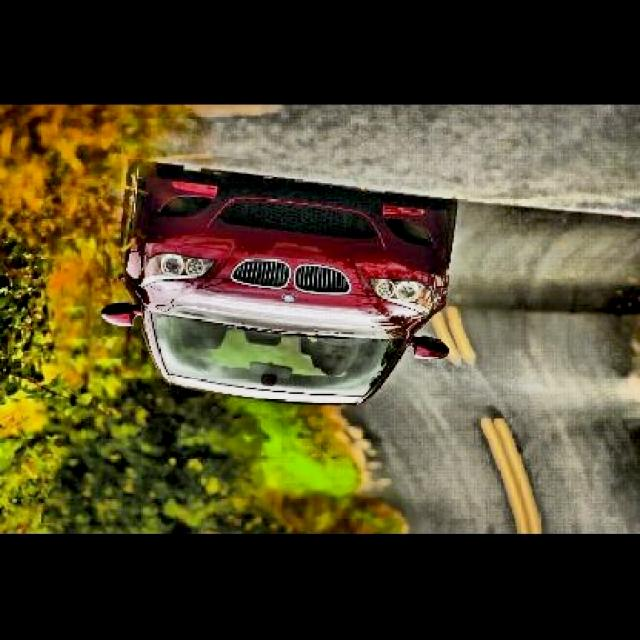maroon: (107, 174, 460, 410)
